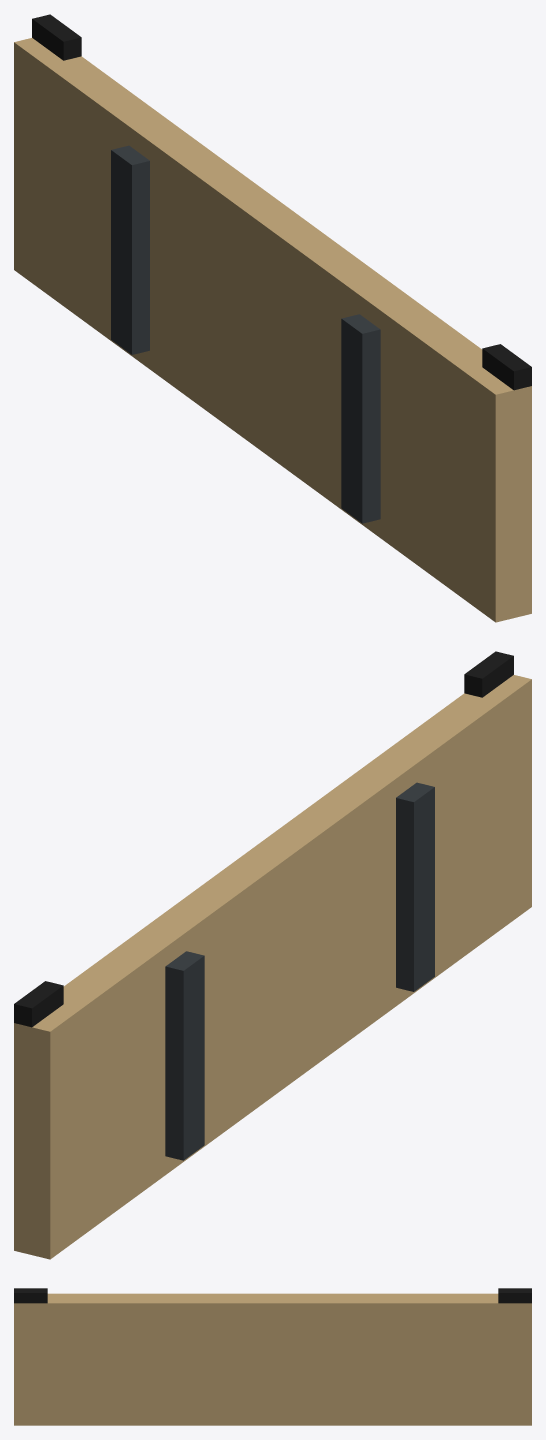
Rendered from light_tactical_vehicle_tailgate.glb.
3 renders of one model, top to bottom at view 1: azimuth 30°, elevation 25°; view 2: azimuth 150°, elevation 25°; view 3: azimuth 270°, elevation 25°, orthographic. The views are drawn at different scales.
Visible parts, largest first — view 1: body:compound; view 2: body:compound; view 3: body:compound.
Boxes of the visible parts, x1,y1,x2,y2 form: body:compound: (14, 14, 531, 622); body:compound: (14, 651, 531, 1259); body:compound: (14, 1288, 531, 1425).
Bounding box in the file's own units: 0.0938 × 0.4062 × 1.44.
